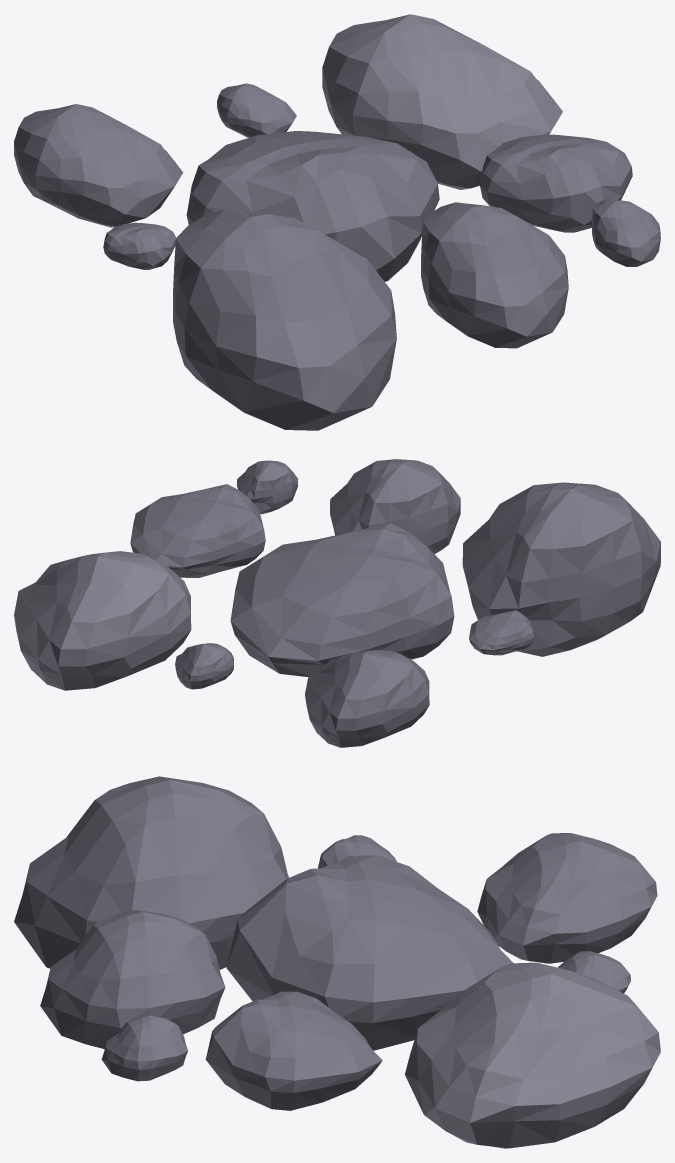
The model's file is SM_asteroids_AC.fbx.
3 renders of one model, top to bottom at view 1: azimuth 30°, elevation 25°; view 2: azimuth 150°, elevation 25°; view 3: azimuth 270°, elevation 25°, orthographic. The views are drawn at different scales.
Visible parts, largest first — view 1: SM_asteroid_1_AC2, SM_asteroid_3_AC, SM_asteroid_2_AC1, SM_asteroid_1_AC1, SM_asteroid_3_AC2, SM_asteroid_2_AC, SM_asteroid_1_AC, SM_asteroid_3_AC1, SM_asteroid_2_AC2; view 2: SM_asteroid_2_AC1, SM_asteroid_1_AC2, SM_asteroid_3_AC, SM_asteroid_3_AC2, SM_asteroid_2_AC, SM_asteroid_1_AC1, SM_asteroid_1_AC, SM_asteroid_2_AC2, SM_asteroid_3_AC1; view 3: SM_asteroid_3_AC, SM_asteroid_2_AC1, SM_asteroid_1_AC2, SM_asteroid_1_AC1, SM_asteroid_3_AC2, SM_asteroid_2_AC, SM_asteroid_1_AC, SM_asteroid_3_AC1, SM_asteroid_2_AC2.
Part boxes in pixels (x1,y1,x2,y2): SM_asteroid_1_AC2: (173, 209, 396, 430); SM_asteroid_3_AC: (322, 14, 562, 189); SM_asteroid_2_AC1: (186, 131, 439, 281); SM_asteroid_1_AC1: (421, 202, 568, 348); SM_asteroid_3_AC2: (14, 104, 183, 227); SM_asteroid_2_AC: (480, 134, 632, 232); SM_asteroid_1_AC: (592, 199, 660, 266); SM_asteroid_3_AC1: (217, 83, 296, 137); SM_asteroid_2_AC2: (103, 222, 175, 269); SM_asteroid_2_AC1: (230, 523, 454, 677); SM_asteroid_1_AC2: (462, 482, 660, 656); SM_asteroid_3_AC: (14, 551, 191, 690); SM_asteroid_3_AC2: (305, 649, 429, 747); SM_asteroid_2_AC: (130, 484, 265, 577); SM_asteroid_1_AC1: (330, 459, 460, 553); SM_asteroid_1_AC: (237, 460, 297, 514); SM_asteroid_2_AC2: (469, 610, 533, 655); SM_asteroid_3_AC1: (175, 643, 233, 689); SM_asteroid_3_AC: (405, 962, 660, 1148); SM_asteroid_2_AC1: (226, 855, 513, 1050); SM_asteroid_1_AC2: (14, 776, 288, 969); SM_asteroid_1_AC1: (40, 910, 225, 1048); SM_asteroid_3_AC2: (477, 833, 657, 963); SM_asteroid_2_AC: (205, 991, 382, 1110); SM_asteroid_1_AC: (101, 1014, 187, 1081); SM_asteroid_3_AC1: (558, 951, 630, 993); SM_asteroid_2_AC2: (318, 835, 396, 868).
Size of the model in its own units: 63.68 by 66.74 by 20.84.
